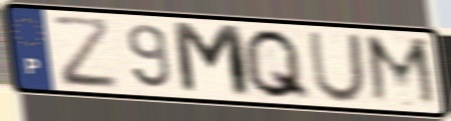9: (124, 22, 174, 90)
M: (168, 19, 257, 101), (361, 31, 443, 111)
Q: (240, 26, 315, 103)
U: (305, 30, 369, 105)
Z: (48, 14, 123, 91)
